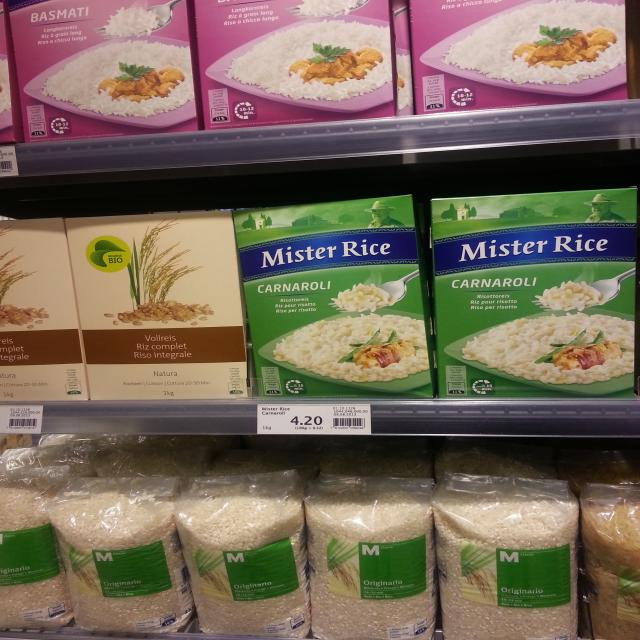Rice: (426, 189, 640, 397), (230, 193, 431, 402), (68, 214, 245, 407), (9, 0, 202, 142), (192, 0, 400, 131), (411, 0, 628, 113), (434, 479, 582, 640), (170, 481, 311, 640), (52, 479, 194, 635), (309, 479, 442, 640), (0, 210, 86, 401), (0, 471, 79, 629), (579, 488, 640, 639)
